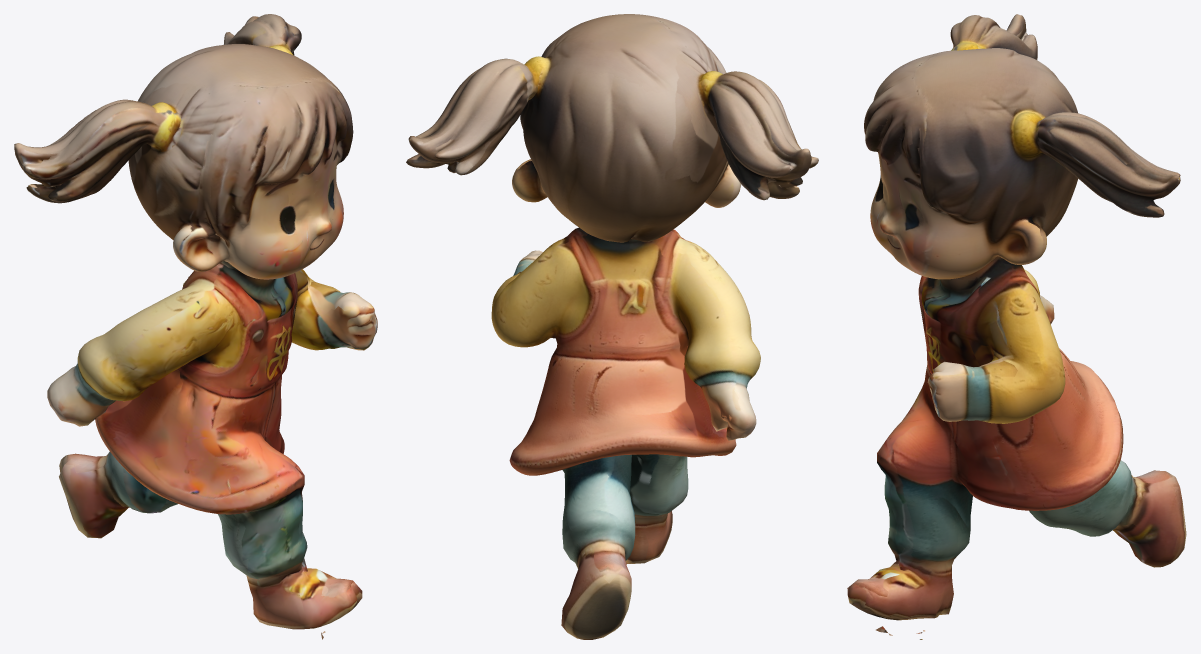
The model's file is guide.glb.
3 views of the same model, side by side, from view 1: azimuth 30°, elevation 25°; view 2: azimuth 150°, elevation 25°; view 3: azimuth 270°, elevation 25° (orthographic).
Visible parts, largest first — view 1: Girl Character; view 2: Girl Character; view 3: Girl Character.
Part boxes in pixels (left/top/right/bottom): Girl Character: left=14, top=14, right=377, bottom=639; Girl Character: left=406, top=14, right=818, bottom=639; Girl Character: left=847, top=14, right=1186, bottom=639.
Size of the model in its own units: 0.157 by 0.25 by 0.1388.
Materials: 1 (1 with a texture image).
